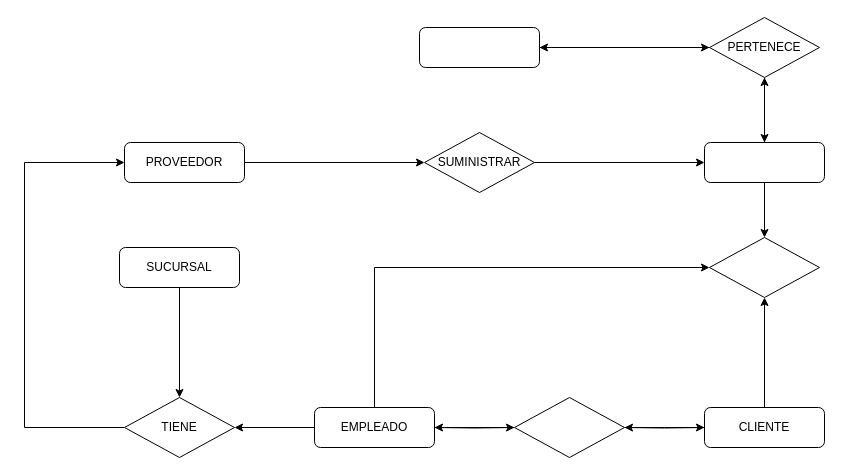
Image size: 842x475. Some labels were removed from this diagram. Each missing label, with the centre of its shape:
"ATENDER" goes at (569,427).
"CATEGORÍA" goes at (479,47).
"COMPRA" goes at (764,267).
"PRODUCTO" goes at (764,162).
